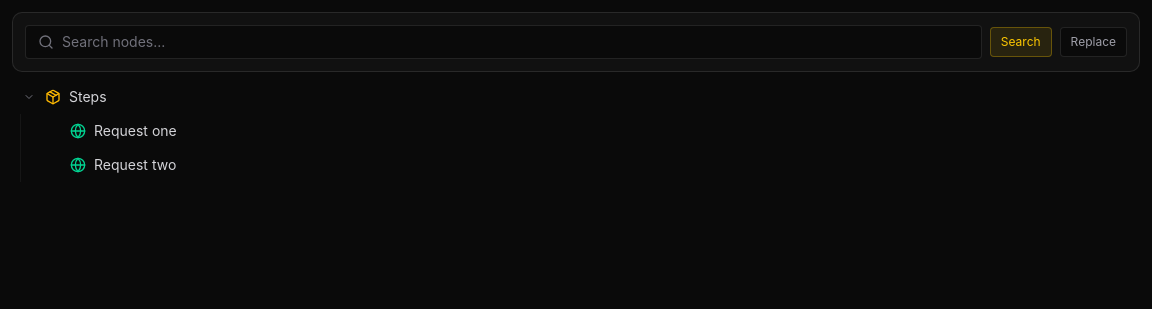
Test case: YAMLTreeView replacement › navigates active replaceable matches without changing the tree
Type "token" into the field with placeholder "Search nodes..." at x=515, y=42, box [62,32,969,52]
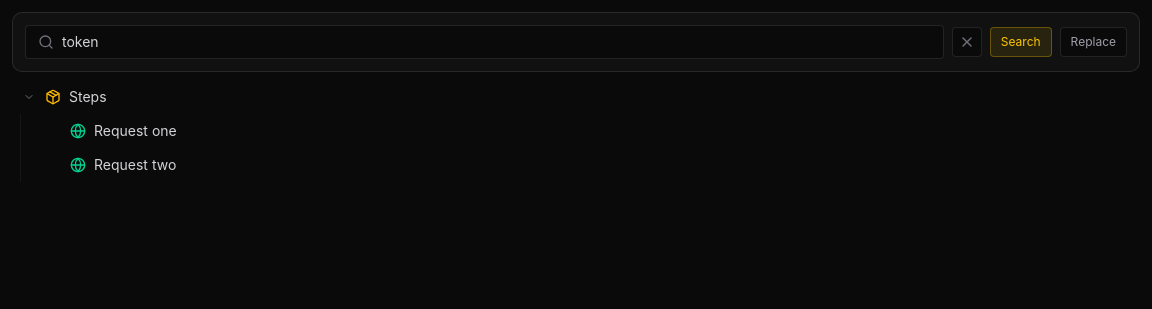
Click the button with aria-label "Search tree" at x=1021, y=42, box [990,27,1052,57]
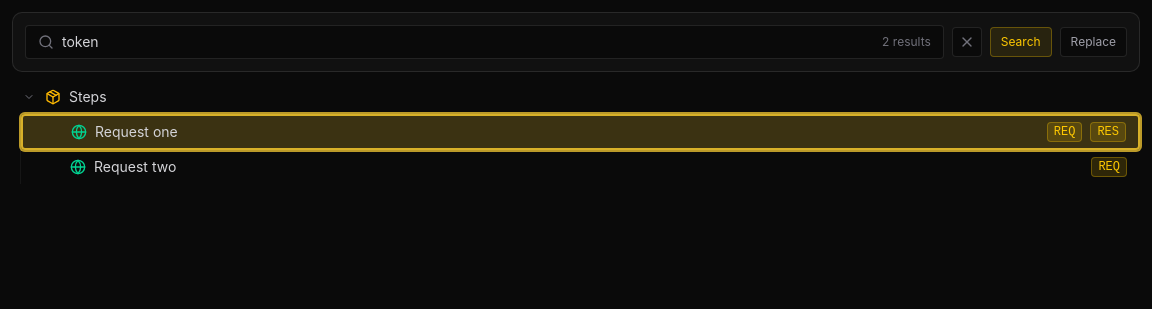
Click the button "Replace" at x=1093, y=42, box [1060,27,1127,57]
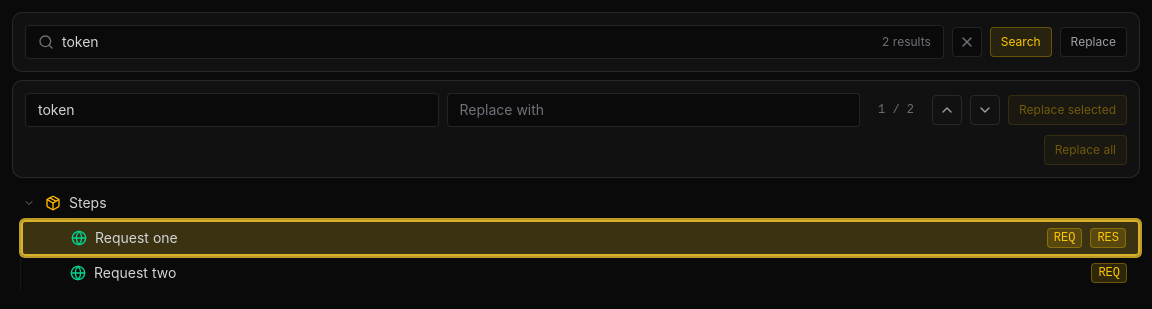
Expected: the text "res" is shown, [1090,228,1126,248]
Expected: the text named "Replace match position" reads "1 / 2", [878,103,914,117]
Click the button named "Next replace match" at x=985, y=110, box [970,95,1000,125]
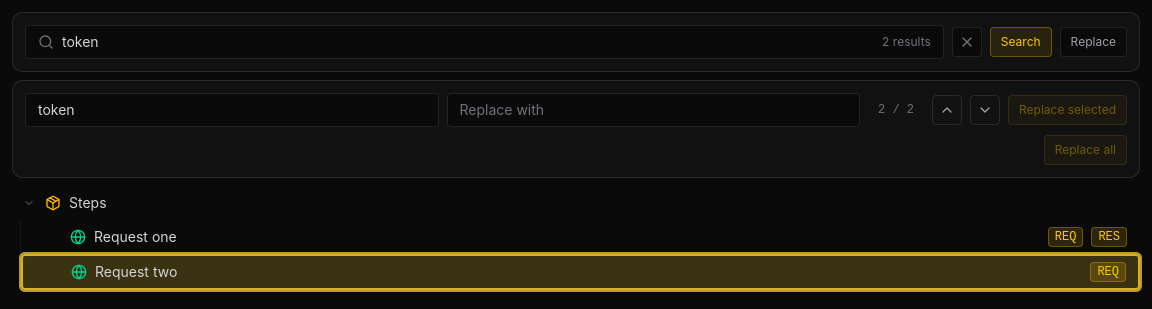
Expected: the text named "Replace match position" reads "2 / 2", [878,103,914,117]
Click the button named "Previous replace match" at x=947, y=110, box [932,95,962,125]
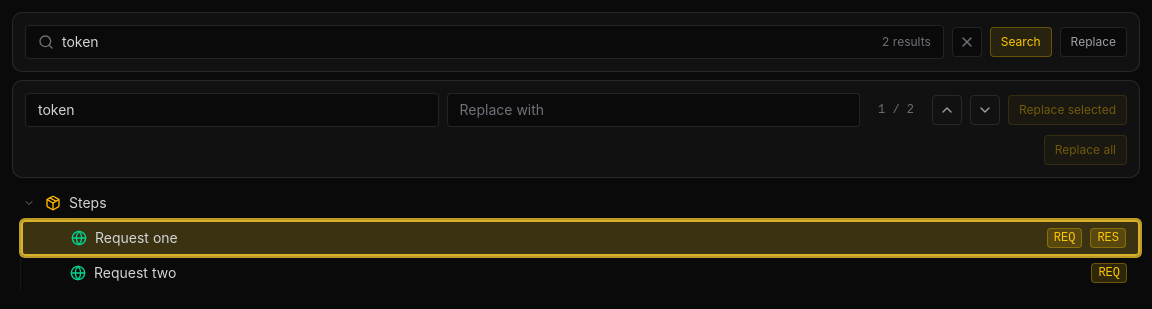
Expected: the text named "Replace match position" reads "1 / 2", [878,103,914,117]
